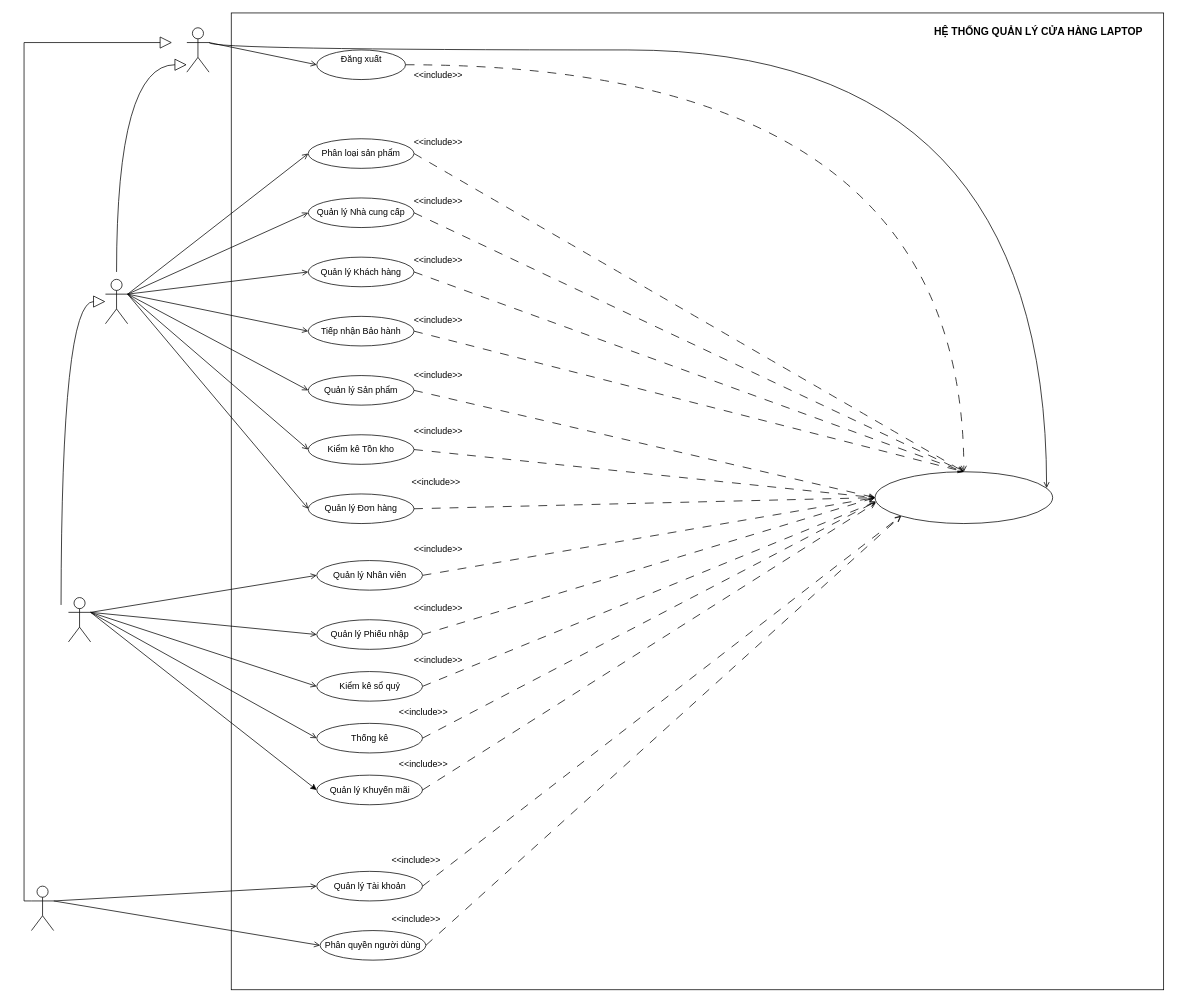
The diagram is 1177 pixels wide and 1003 high, and some of its shapes have lost their labels. Each missing label, with the centre of its shape:
"ADMIN" goes at (42,908).
"NDHT" goes at (197,49).
"NV" goes at (116,301).
"QLY" goes at (79,619).
"Đăng nhập" goes at (963,497).
